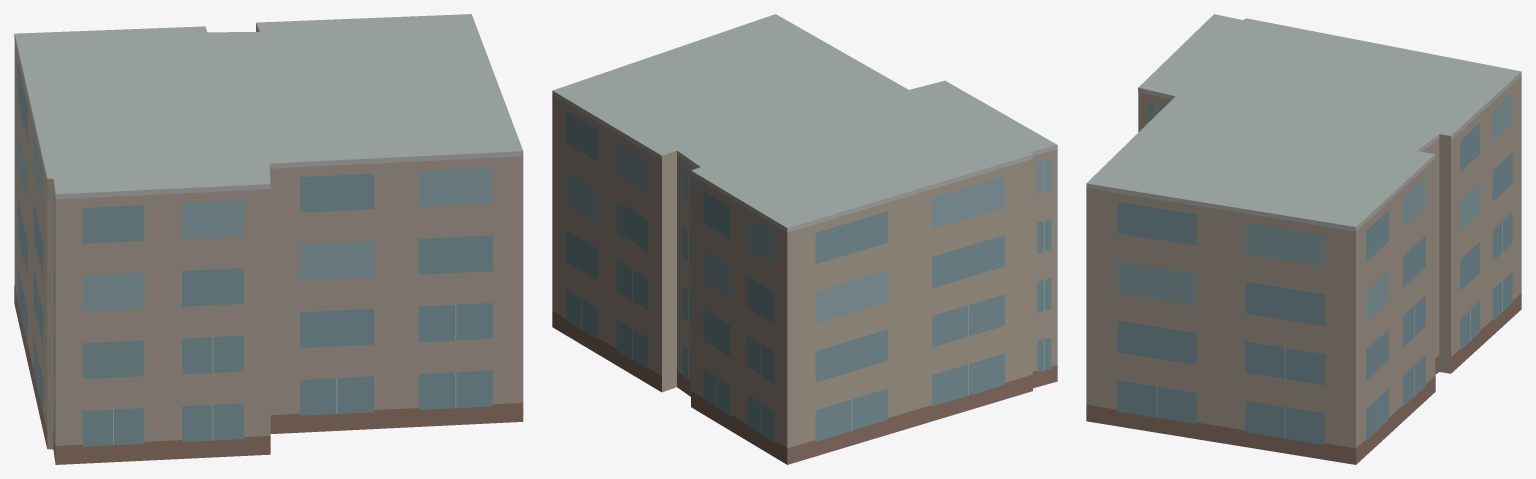
File: survey-upis-33038262.glb
The picture shows the model from 3 angles, left to right: view 1: azimuth 30°, elevation 25°; view 2: azimuth 150°, elevation 25°; view 3: azimuth 270°, elevation 25°; orthographic projection. The views are drawn at different scales.
Parts seen in each view (by area): view 1: survey-upis-33038262.tmp; view 2: survey-upis-33038262.tmp; view 3: survey-upis-33038262.tmp.
Boxes of the visible parts, x1,y1,x2,y2 form: survey-upis-33038262.tmp: [14, 14, 523, 464]; survey-upis-33038262.tmp: [552, 14, 1057, 464]; survey-upis-33038262.tmp: [1086, 14, 1521, 464].
Bounding box in the file's own units: 24.6 × 12.8 × 21.25.
